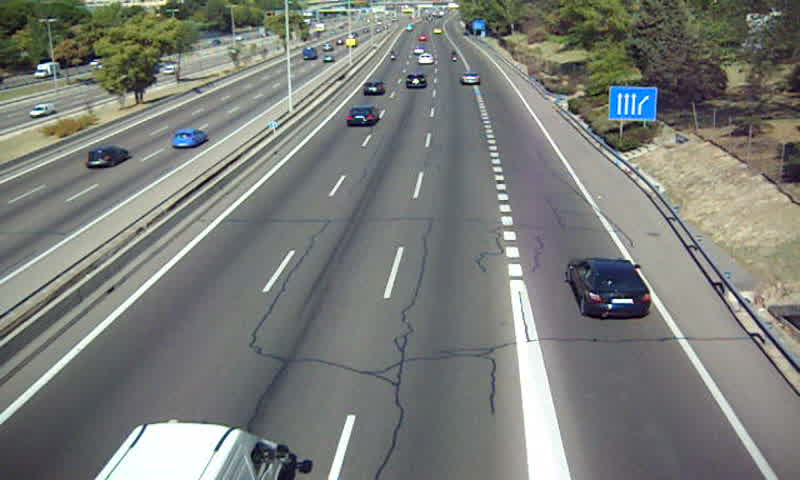car: (569, 259, 651, 317), (346, 106, 377, 127), (404, 72, 427, 91), (362, 80, 385, 98), (460, 71, 482, 86), (416, 52, 435, 65)
